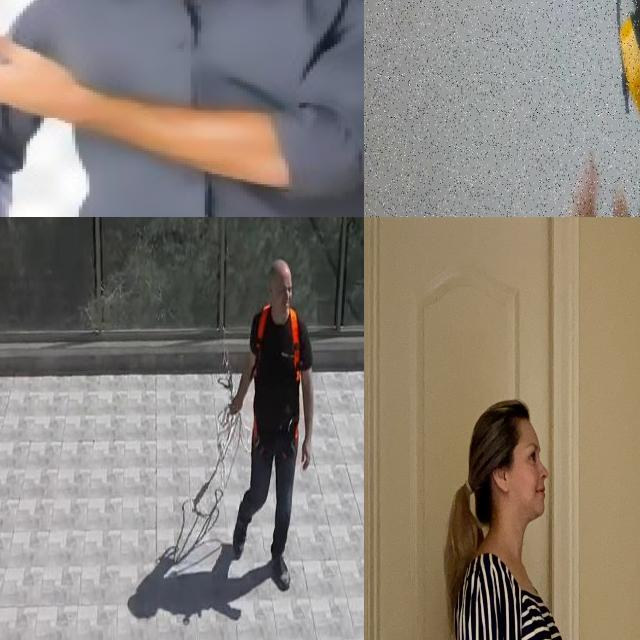Harness: (256, 306, 303, 390)
No_Ear-Protection: (492, 459, 509, 496)
No_Glasses: (520, 436, 548, 473)
